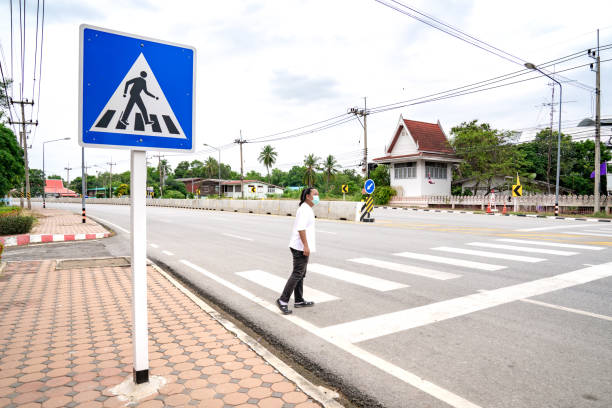yaya: (264, 181, 343, 318)
yaya_gecidi: (79, 20, 200, 157)
